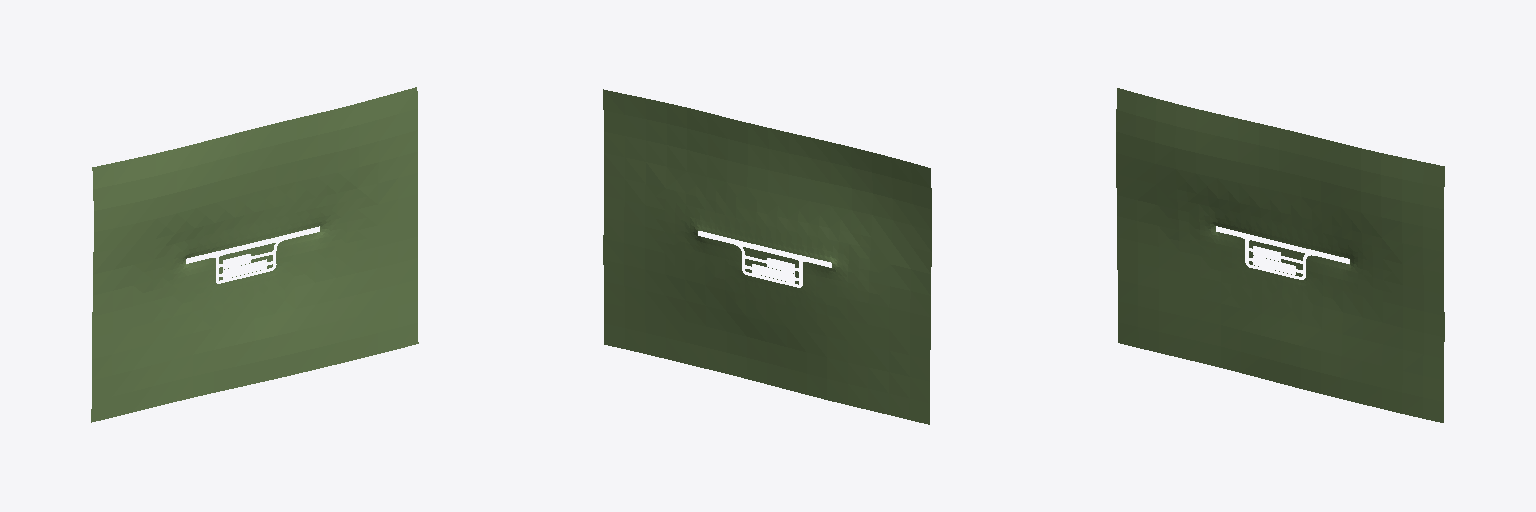
The model's file is parking22.obj.
3 renders of one model, left to right at view 1: azimuth 30°, elevation 25°; view 2: azimuth 150°, elevation 25°; view 3: azimuth 330°, elevation 25°, orthographic.
Parts seen in each view (by area): view 1: Background; view 2: Background; view 3: Background.
Boxes of the visible parts, x1,y1,x2,y2 form: Background: [91, 87, 418, 422]; Background: [603, 89, 931, 424]; Background: [1116, 88, 1444, 422].
Bounding box in the file's own units: 640 × 480 × 19.14.